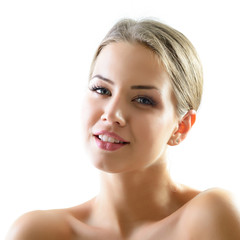teen: (73, 19, 202, 175)
